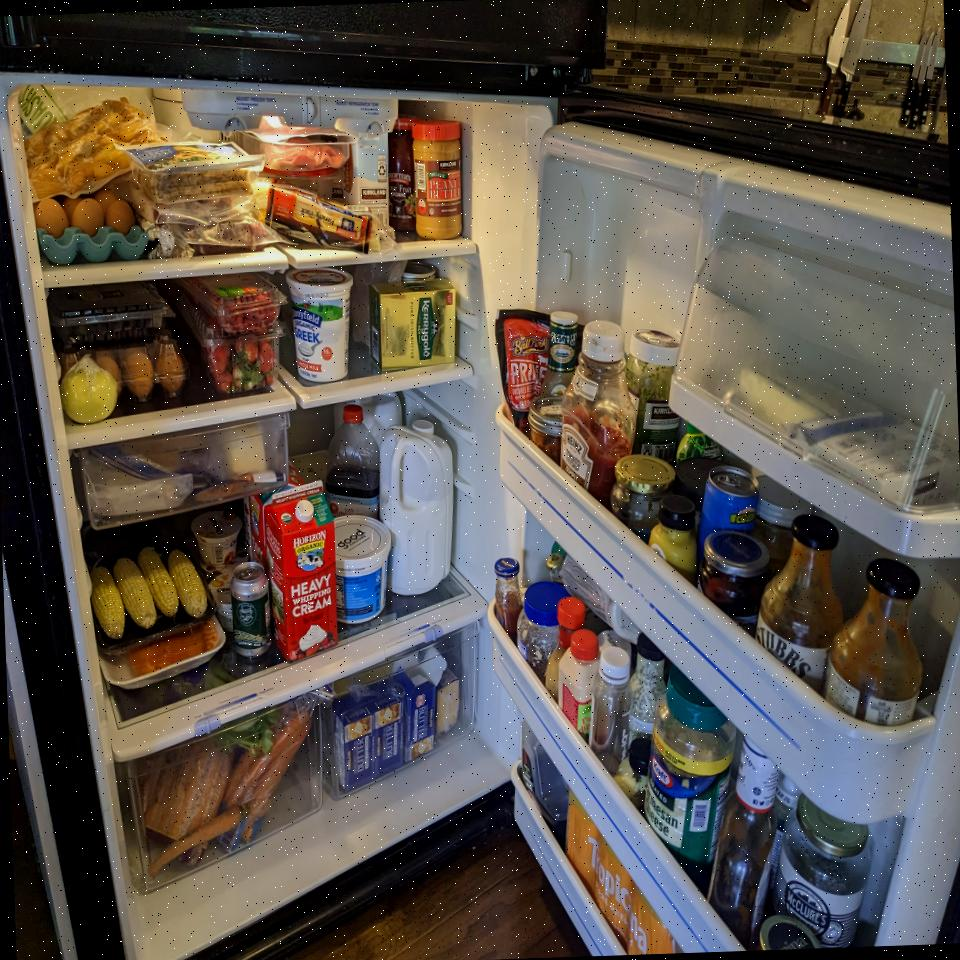Huevos: (32, 187, 150, 265), (59, 351, 190, 406)
Leche: (376, 418, 458, 597)
Limón: (59, 362, 119, 424)
Mantequilla: (368, 277, 459, 372), (329, 689, 378, 794), (394, 666, 438, 764), (366, 676, 407, 778)
Queso: (254, 178, 381, 258), (434, 668, 461, 736)
Yogur: (285, 266, 357, 383), (326, 513, 394, 624)
Zanahoria: (222, 700, 316, 844), (138, 735, 237, 843), (142, 806, 246, 876)
